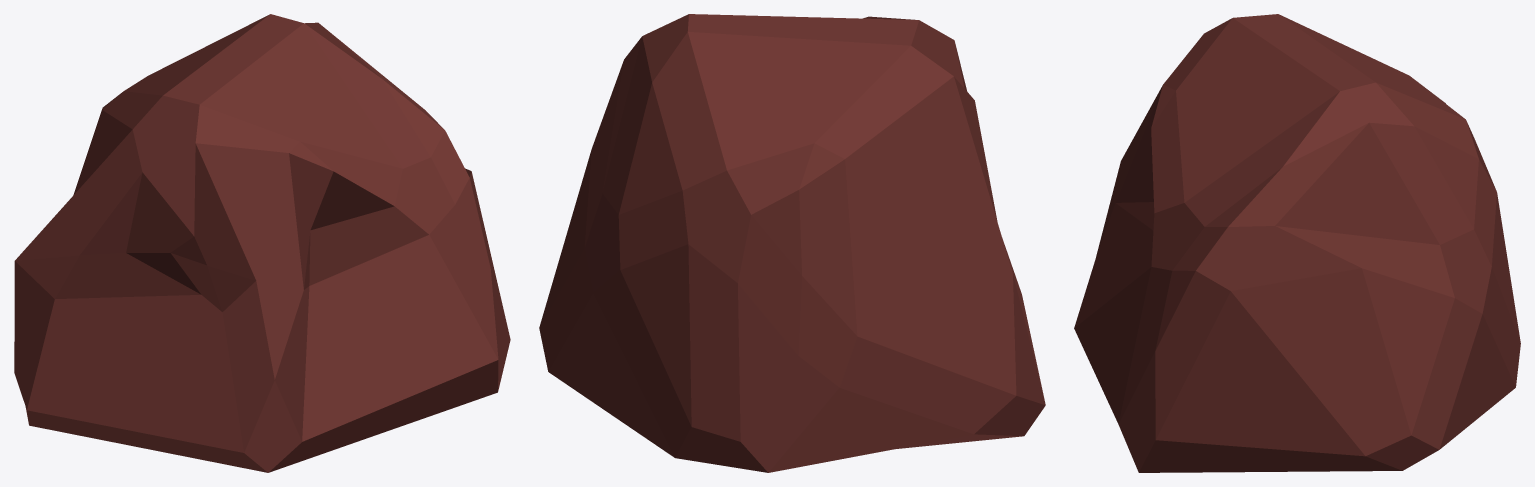
The model's file is Rock_10_Red.fbx.
3 renders of one model, left to right at view 1: azimuth 30°, elevation 25°; view 2: azimuth 150°, elevation 25°; view 3: azimuth 270°, elevation 25°, orthographic. The views are drawn at different scales.
Visible parts, largest first — view 1: Rock_10_Red; view 2: Rock_10_Red; view 3: Rock_10_Red.
Part boxes in pixels (x1,y1,x2,y2): Rock_10_Red: [14, 14, 510, 472]; Rock_10_Red: [539, 14, 1045, 472]; Rock_10_Red: [1074, 14, 1520, 472].
Size of the model in its own units: 145 by 107 by 130.
